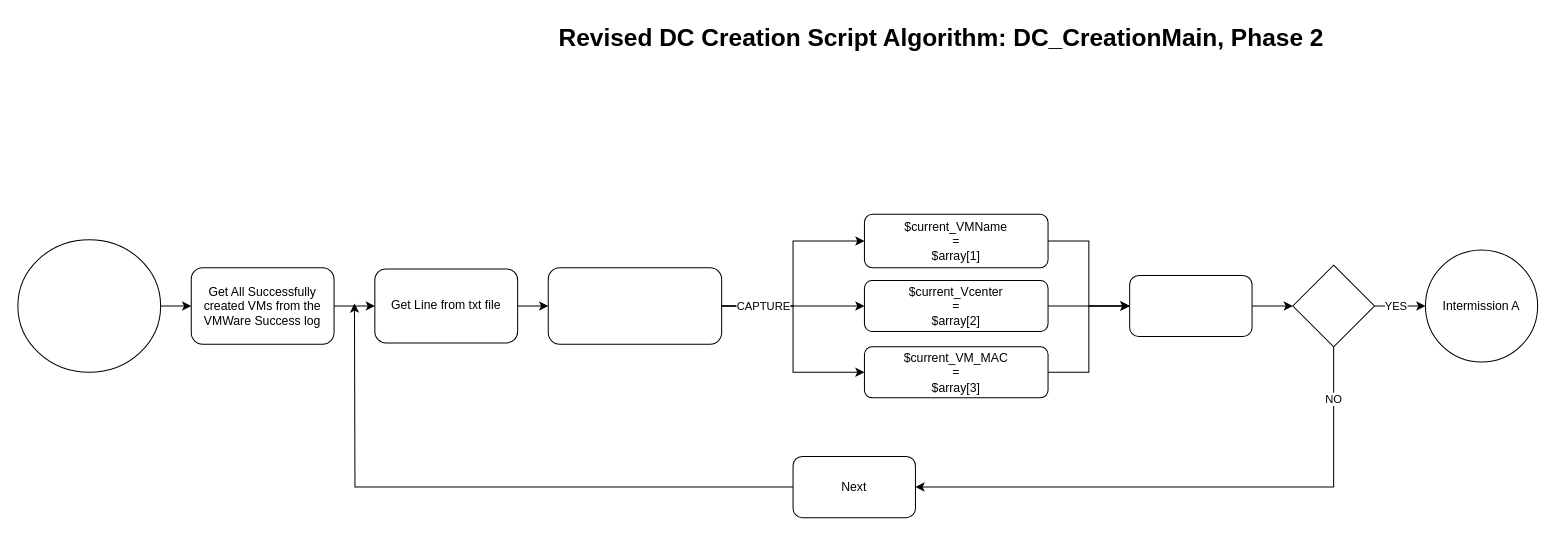
Image size: 1556x536. Some labels were removed from this diagram. Here are the shapes that lost their labels. From the top down, the centre of each, then its label:
At point (89, 305): "Phase 2: SCCM Importing".
At point (634, 305): "Split line to an array separator: tab char".
At point (1190, 305): "Call SCCM Worker".
At point (1333, 305): "Last Machine?".
